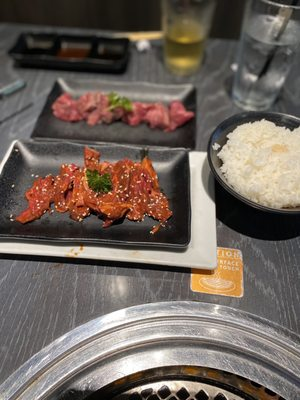pizza: (229, 0, 300, 112), (161, 0, 218, 83)
sushi: (206, 111, 300, 241)
